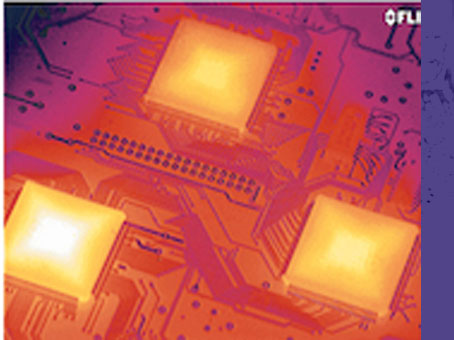componente_T: (277, 193, 421, 324), (137, 15, 279, 141), (1, 177, 127, 312)
